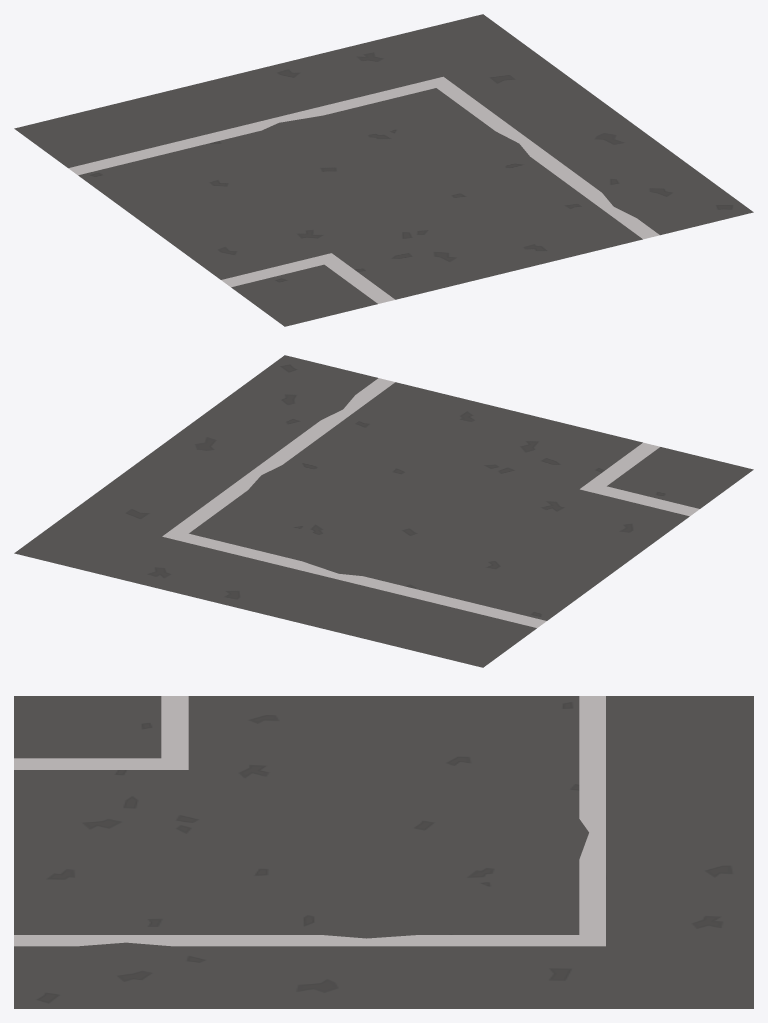
File: SM_Env_Ground_Lines_Corner_01.fbx
3 renders of one model, top to bottom at view 1: azimuth 30°, elevation 25°; view 2: azimuth 150°, elevation 25°; view 3: azimuth 270°, elevation 25°, orthographic. The views are drawn at different scales.
Parts seen in each view (by area): view 1: SM_Env_Ground_Lines_Corner_01; view 2: SM_Env_Ground_Lines_Corner_01; view 3: SM_Env_Ground_Lines_Corner_01.
Part boxes in pixels (x1,y1,x2,y2): SM_Env_Ground_Lines_Corner_01: (14,14,753,326); SM_Env_Ground_Lines_Corner_01: (14,355,753,667); SM_Env_Ground_Lines_Corner_01: (14,696,753,1008).
Bounding box in the file's own units: 1000 × 1.82e-12 × 1000.
